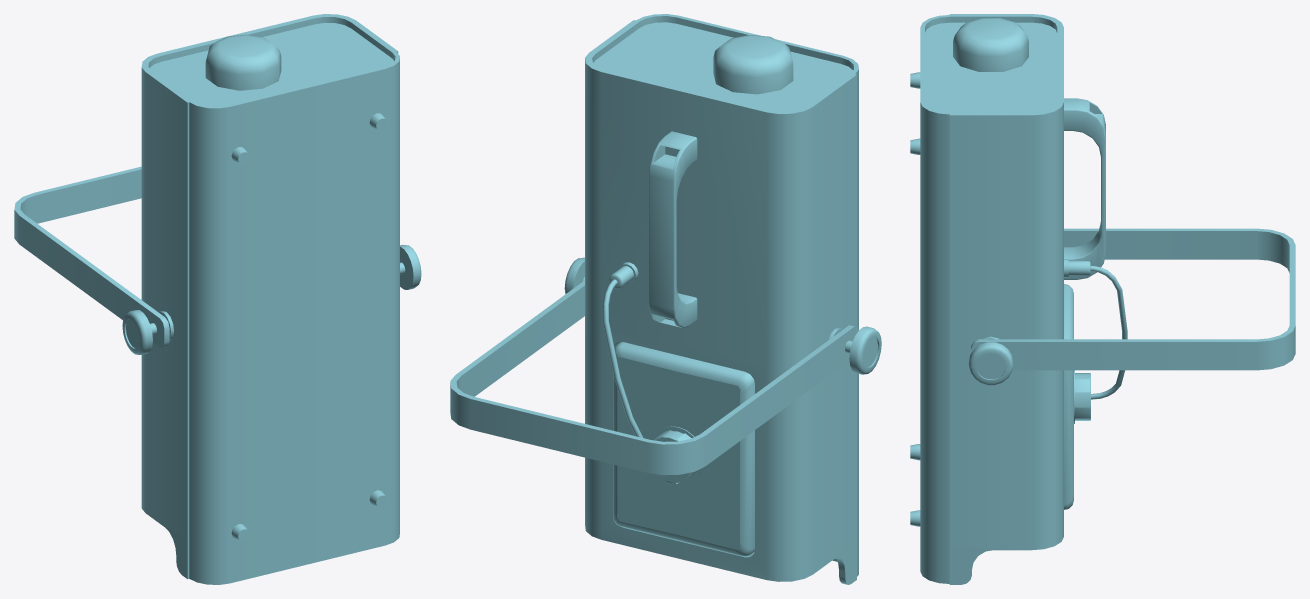
File: Smoke_machine.fbx
3 views of the same model, side by side, from view 1: azimuth 30°, elevation 25°; view 2: azimuth 150°, elevation 25°; view 3: azimuth 270°, elevation 25° (orthographic). The views are drawn at different scales.
Parts seen in each view (by area): view 1: SM_Smoke_Machine, SM_Frame; view 2: SM_Smoke_Machine, SM_Frame; view 3: SM_Smoke_Machine, SM_Frame.
Part boxes in pixels (<box>): SM_Smoke_Machine: <box>122,14,421,584</box>; SM_Frame: <box>14,166,169,347</box>; SM_Smoke_Machine: <box>564,14,881,584</box>; SM_Frame: <box>450,280,858,475</box>; SM_Smoke_Machine: <box>910,14,1127,584</box>; SM_Frame: <box>971,228,1295,370</box>.
Size of the model in its own units: 33.78 by 57.59 by 40.88.
